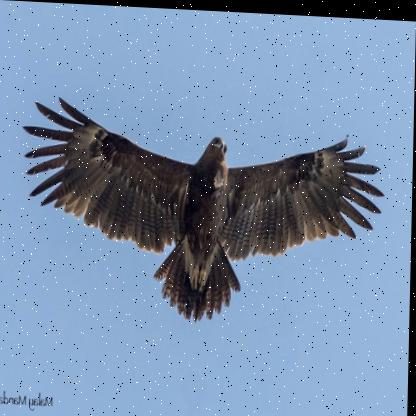Burung: (19, 93, 390, 326)
